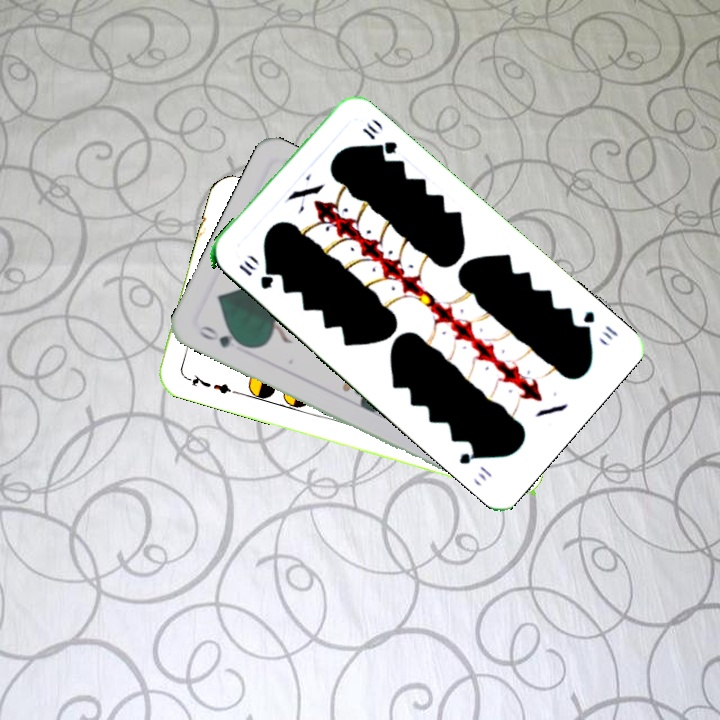E7: (181, 370, 239, 397)
G10: (575, 307, 621, 343), (234, 257, 277, 292)
GO: (195, 321, 250, 351)
